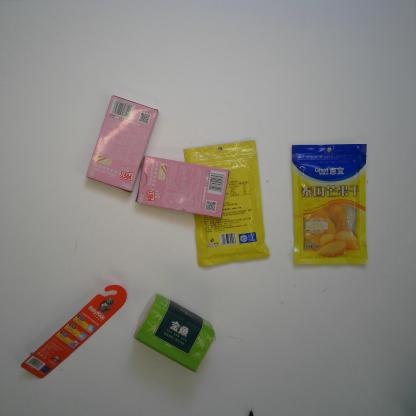Dessert: (82, 93, 160, 193), (133, 154, 231, 222)
Dried Fruit: (181, 138, 272, 270), (288, 140, 370, 268)
Personal Hygiene: (18, 284, 129, 380)
Tissue: (130, 291, 220, 375)
